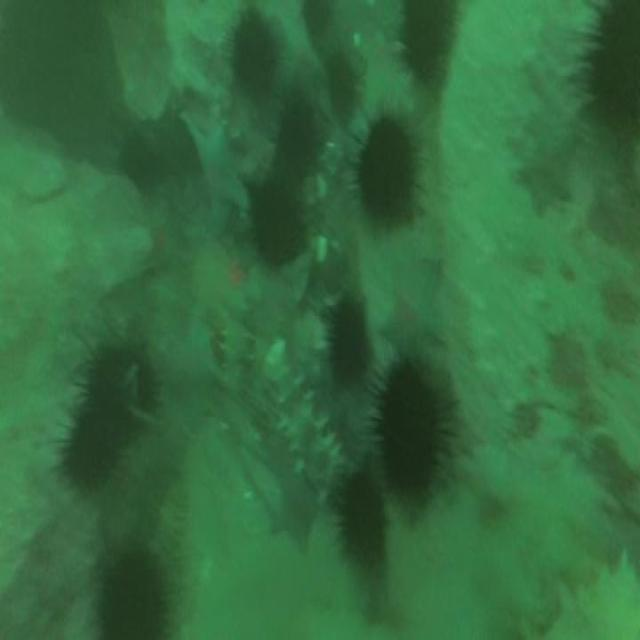echinus: (378, 373, 439, 499), (359, 117, 414, 227), (84, 346, 158, 427), (593, 1, 640, 125), (248, 182, 302, 272), (102, 562, 162, 640), (343, 476, 387, 567), (278, 90, 324, 175), (234, 9, 276, 95), (61, 423, 111, 490), (404, 0, 448, 73), (328, 302, 366, 381), (120, 133, 162, 196), (324, 52, 361, 120)
holothurian: (277, 371, 343, 495), (220, 314, 253, 389)
scallop: (265, 342, 290, 379), (315, 234, 329, 269)
starfish: (516, 115, 574, 214), (386, 260, 446, 352), (268, 466, 314, 558)
